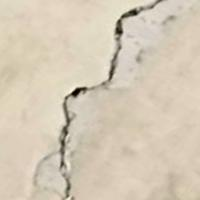crack: (44, 2, 162, 199)
